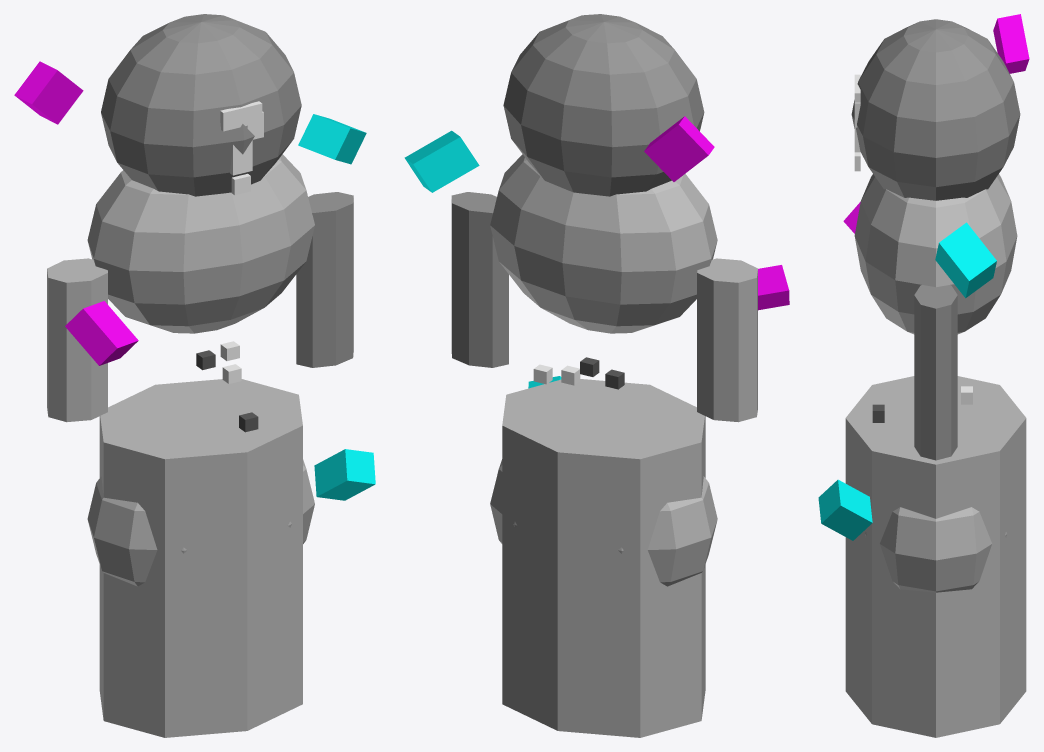
The model's file is mystery.glb.
3 renders of one model, left to right at view 1: azimuth 30°, elevation 25°; view 2: azimuth 150°, elevation 25°; view 3: azimuth 270°, elevation 25°, orthographic. The views are drawn at different scales.
Visible parts, largest first — view 1: Body, BodyCap1.05, Head, ArmR, ArmL, BodyCap0.15, Glitch1, Glitch2, Glitch3, Glitch0, QTop; view 2: Body, BodyCap1.05, Head, ArmL, ArmR, BodyCap0.15, Glitch0, Glitch3, Glitch1; view 3: Body, Head, BodyCap1.05, BodyCap0.15, ArmR, Glitch0, Glitch2, Glitch3.
Part boxes in pixels (<box>): Body: <box>99,379,302,737</box>; BodyCap1.05: <box>87,154,314,333</box>; Head: <box>101,14,301,196</box>; ArmR: <box>296,192,353,367</box>; ArmL: <box>47,258,107,422</box>; BodyCap0.15: <box>87,459,314,586</box>; Glitch1: <box>65,301,138,365</box>; Glitch2: <box>314,449,375,500</box>; Glitch3: <box>14,61,83,124</box>; Glitch0: <box>298,114,366,164</box>; QTop: <box>220,101,262,131</box>; Body: <box>502,379,705,737</box>; BodyCap1.05: <box>490,154,717,333</box>; Head: <box>503,14,704,196</box>; ArmL: <box>697,258,757,422</box>; ArmR: <box>451,192,508,367</box>; BodyCap0.15: <box>490,459,717,586</box>; Glitch0: <box>404,130,479,192</box>; Glitch3: <box>644,116,714,181</box>; Glitch1: <box>758,265,789,310</box>; Body: <box>845,376,1026,737</box>; Head: <box>851,19,1020,200</box>; BodyCap1.05: <box>854,174,1017,334</box>; BodyCap0.15: <box>865,507,1006,592</box>; ArmR: <box>914,285,957,460</box>; Glitch0: <box>935,222,996,298</box>; Glitch2: <box>818,479,872,540</box>; Glitch3: <box>993,14,1029,73</box>.
Bounding box in the file's own units: 1.16 × 2.18 × 0.6301.
